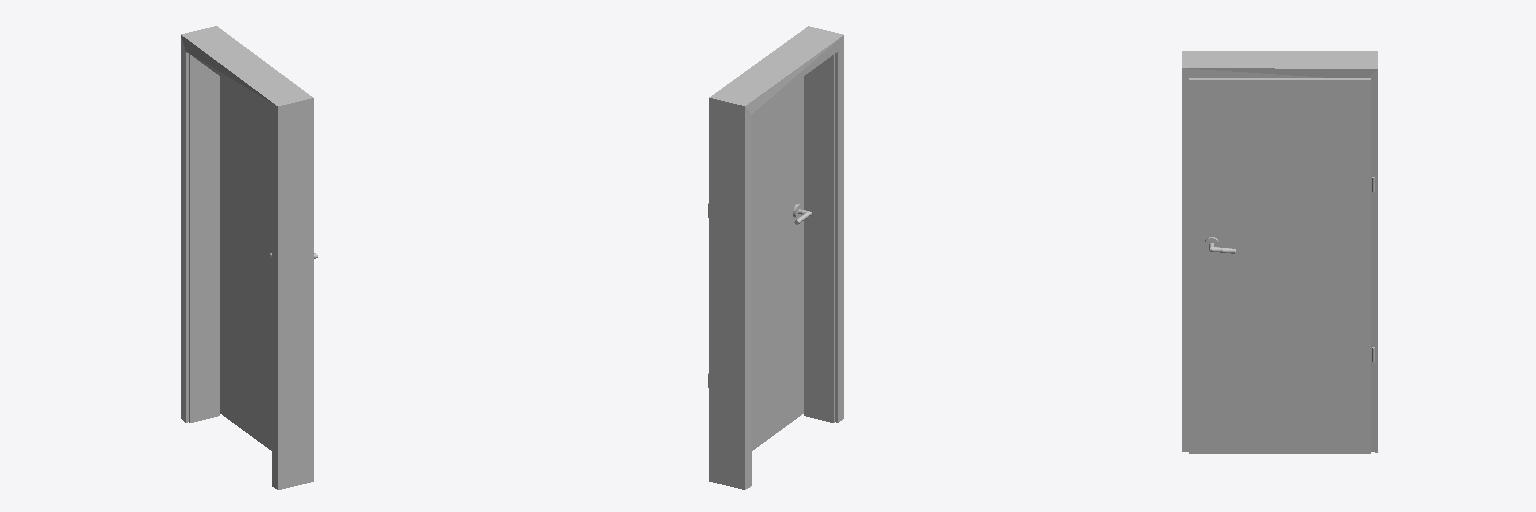
The model's file is door18.obj.
3 views of the same model, side by side, from view 1: azimuth 30°, elevation 25°; view 2: azimuth 150°, elevation 25°; view 3: azimuth 270°, elevation 25° (orthographic).
Visible parts, largest first — view 1: Cylinder.005, Cylinder.001; view 2: Cylinder.005, Cylinder.001; view 3: Cylinder.001, Cylinder.005.
Boxes of the visible parts, x1,y1,x2,y2 form: Cylinder.005: [181, 26, 313, 489]; Cylinder.001: [220, 77, 271, 450]; Cylinder.005: [708, 26, 843, 489]; Cylinder.001: [708, 77, 803, 450]; Cylinder.001: [1189, 78, 1374, 453]; Cylinder.005: [1182, 51, 1377, 452].
Bounding box in the file's own units: 0.3039 × 2.05 × 0.95.